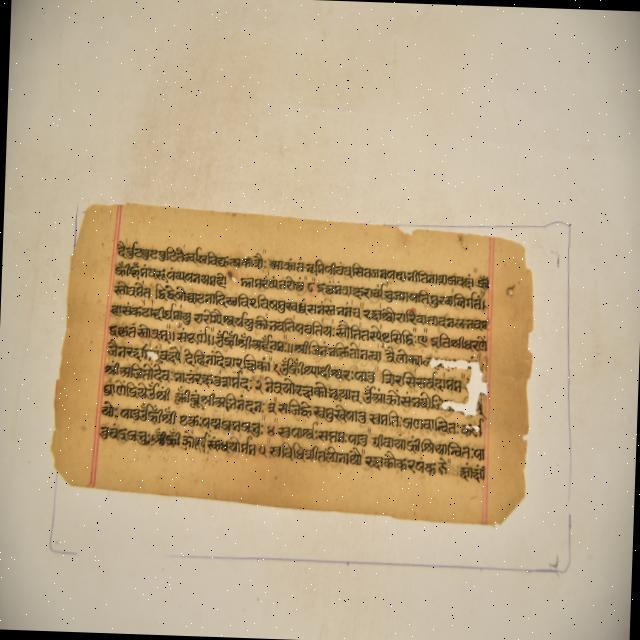text_paragraph: (57, 203, 529, 530)
